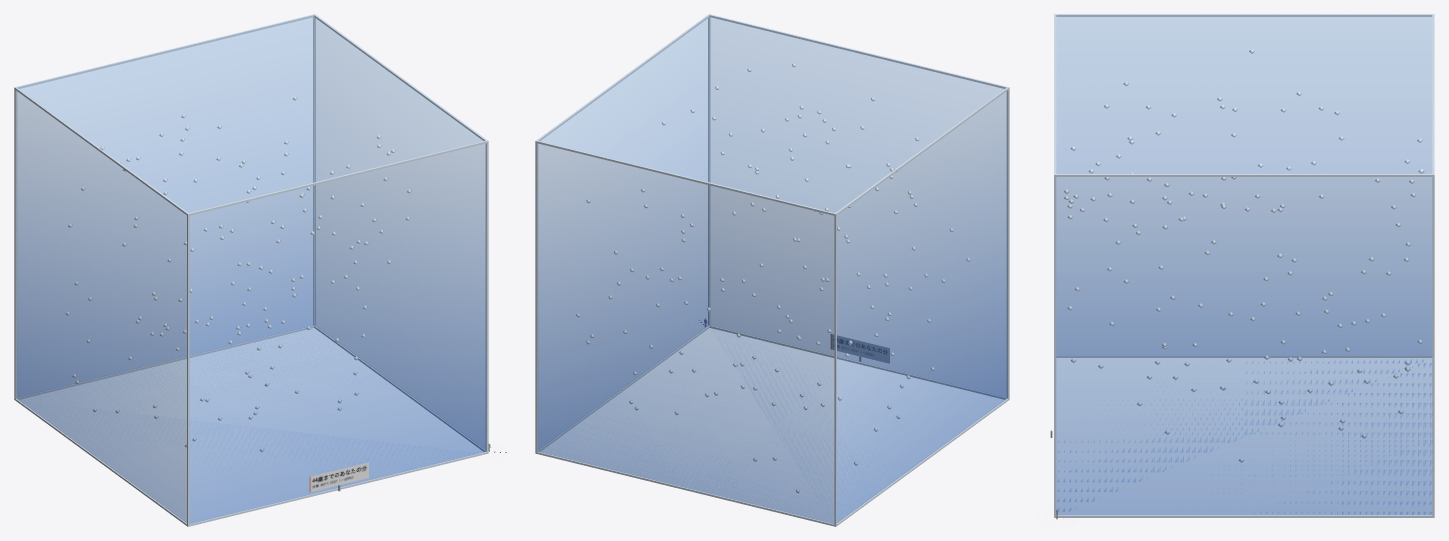
File: cube_life_44.glb
3 renders of one model, left to right at view 1: azimuth 30°, elevation 25°; view 2: azimuth 150°, elevation 25°; view 3: azimuth 270°, elevation 25°, orthographic. The views are drawn at different scales.
Parts seen in each view (by area): view 1: co2, edge, dots, label; view 2: co2, edge, dots, label; view 3: co2, edge, dots.
Boxes of the visible parts, left/top/right/bottom form: co2: left=16, top=15, right=485, bottom=523; edge: left=14, top=14, right=488, bottom=526; dots: left=66, top=96, right=411, bottom=451; label: left=309, top=462, right=368, bottom=492; co2: left=538, top=15, right=1007, bottom=523; edge: left=535, top=14, right=1009, bottom=526; dots: left=576, top=63, right=970, bottom=493; label: left=831, top=334, right=889, bottom=363; co2: left=1055, top=14, right=1432, bottom=514; edge: left=1054, top=14, right=1434, bottom=517; dots: left=1064, top=49, right=1424, bottom=462.
Bounding box in the file's own units: 63.89 × 60.14 × 62.99.
8 materials, 3 textured.
